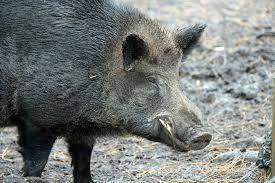wildboar: (0, 0, 214, 183)
